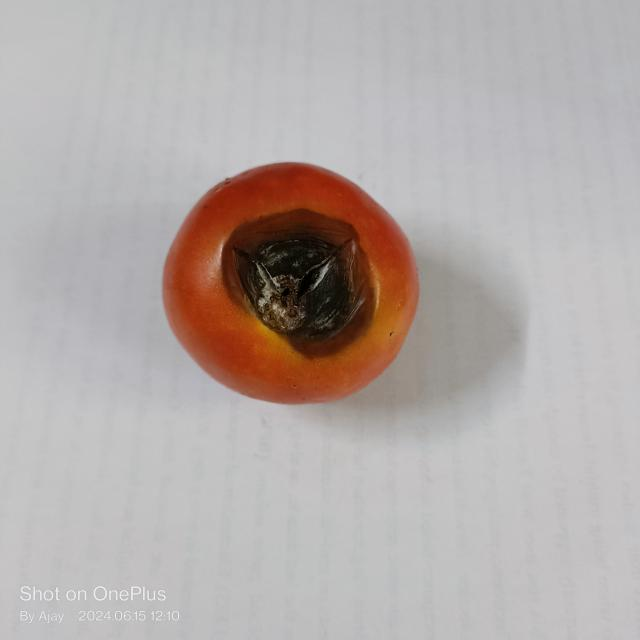Anthrocnose: (218, 211, 374, 358)
